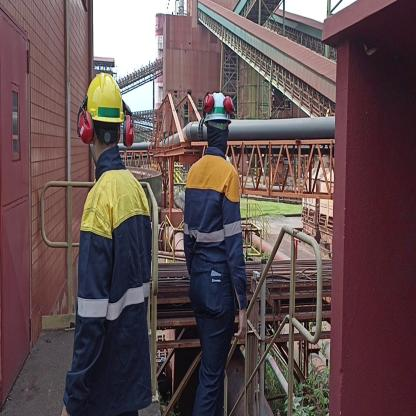Balaclava: (208, 120, 229, 154)
C_eletrica: (74, 185, 154, 404)
Capacete: (84, 64, 126, 122), (205, 88, 230, 119)
Operacional: (183, 154, 244, 300)
